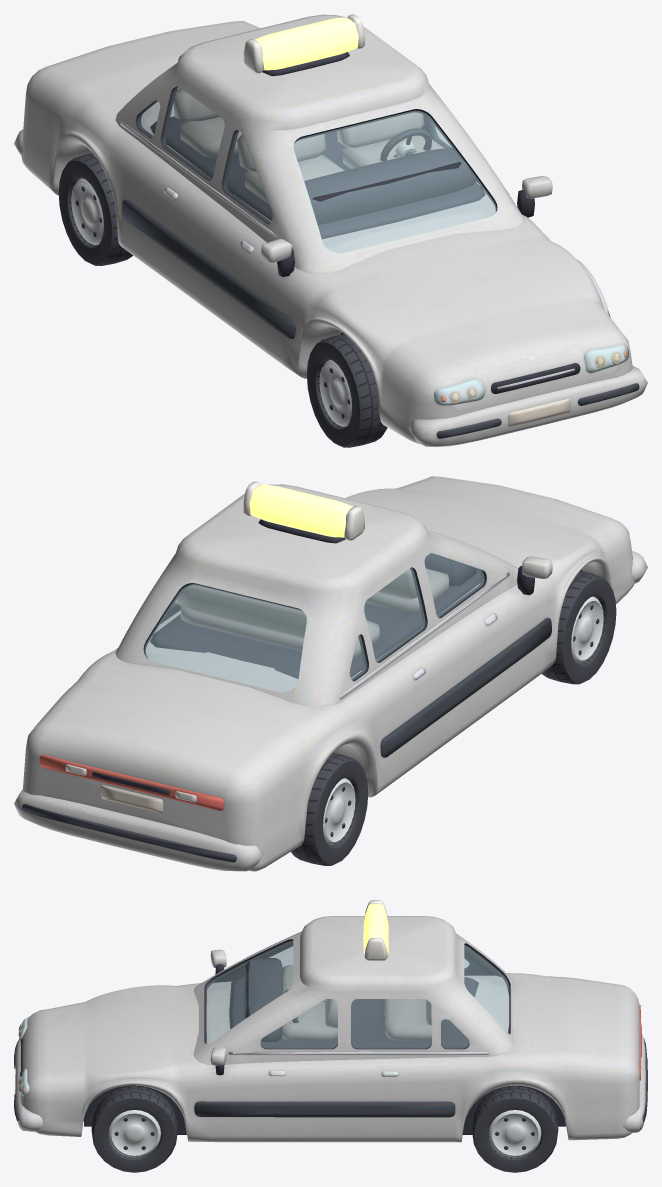
Rendered from taxi90.glb.
3 renders of one model, top to bottom at view 1: azimuth 30°, elevation 25°; view 2: azimuth 150°, elevation 25°; view 3: azimuth 270°, elevation 25°, orthographic. The views are drawn at different scales.
Parts seen in each view (by area): view 1: 1990s-taxi_body, 1990s-taxi_windows, 1990s-taxi_wheel_fr, 1990s-taxi_wheel_rr, 1990s-taxi_roof_sign; view 2: 1990s-taxi_body, 1990s-taxi_windows, 1990s-taxi_wheel_rr, 1990s-taxi_wheel_fr, 1990s-taxi_roof_sign; view 3: 1990s-taxi_body, 1990s-taxi_windows, 1990s-taxi_wheel_fl, 1990s-taxi_wheel_rl, 1990s-taxi_roof_sign.
Part boxes in pixels (bbox=[...]): 1990s-taxi_body: bbox=[14, 14, 647, 446]; 1990s-taxi_windows: bbox=[138, 86, 496, 252]; 1990s-taxi_wheel_fr: bbox=[307, 334, 387, 447]; 1990s-taxi_wheel_rr: bbox=[58, 153, 132, 265]; 1990s-taxi_roof_sign: bbox=[243, 14, 364, 76]; 1990s-taxi_body: bbox=[14, 476, 647, 871]; 1990s-taxi_windows: bbox=[145, 553, 484, 692]; 1990s-taxi_wheel_rr: bbox=[291, 753, 368, 865]; 1990s-taxi_wheel_fr: bbox=[541, 571, 616, 684]; 1990s-taxi_roof_sign: bbox=[243, 481, 364, 543]; 1990s-taxi_body: bbox=[14, 916, 647, 1142]; 1990s-taxi_windows: bbox=[206, 941, 508, 1048]; 1990s-taxi_wheel_fl: bbox=[91, 1086, 177, 1172]; 1990s-taxi_wheel_rl: bbox=[472, 1086, 558, 1172]; 1990s-taxi_roof_sign: bbox=[363, 900, 388, 960].
Size of the model in its own units: 1.94 by 1.75 by 4.83.
Materials: 8 (2 with a texture image).
